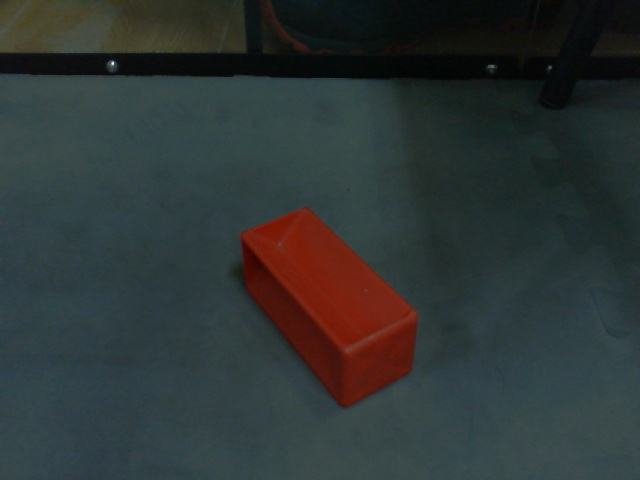RedSample: (238, 206, 420, 411)
